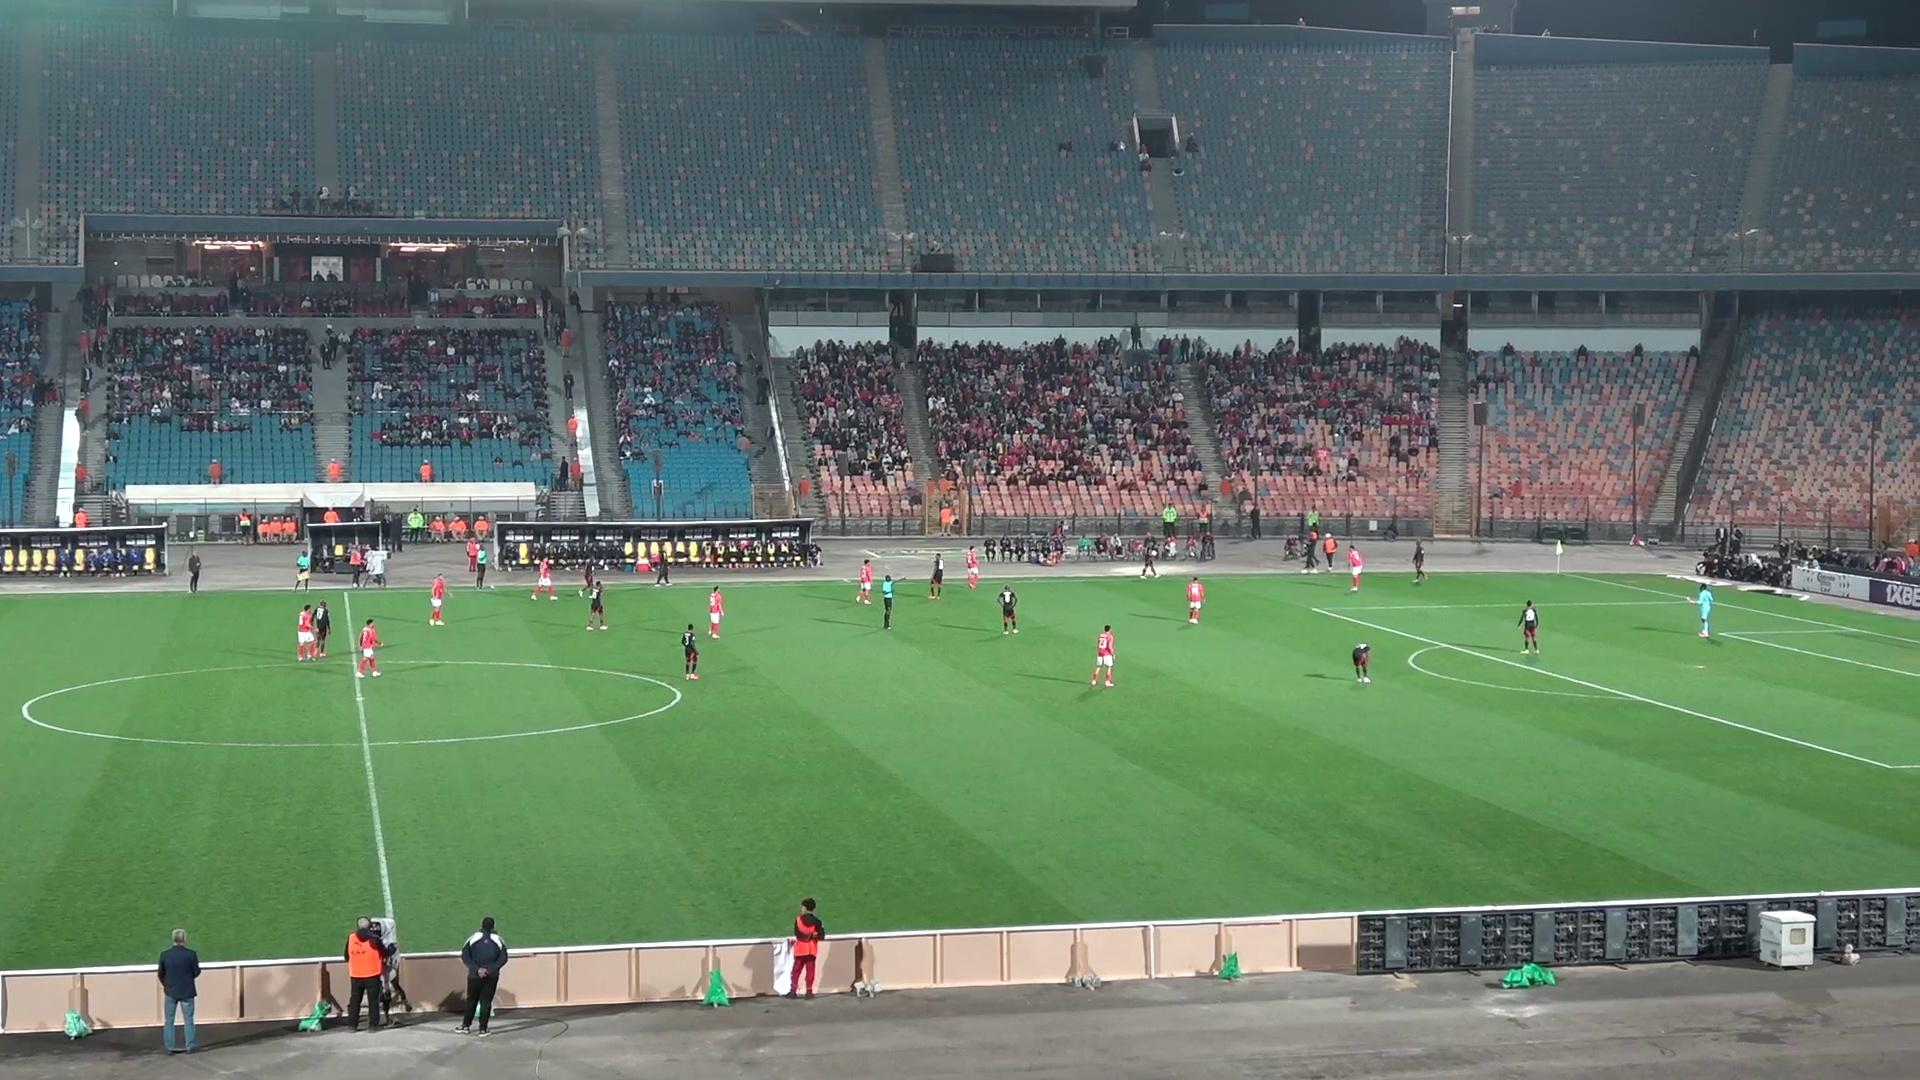GK2: (1692, 580, 1714, 640)
Refree: (291, 553, 328, 589), (873, 574, 897, 630), (469, 541, 488, 588)
Team1: (297, 601, 328, 661), (356, 618, 382, 676), (1091, 625, 1116, 686), (855, 556, 880, 603), (429, 574, 450, 626), (531, 558, 556, 600), (1185, 576, 1207, 624), (707, 585, 725, 638), (1346, 545, 1364, 592), (965, 546, 982, 589)
Team2: (303, 600, 331, 659), (996, 585, 1019, 634), (1518, 600, 1540, 651), (578, 553, 603, 597), (680, 625, 700, 680), (585, 582, 608, 630), (1349, 642, 1371, 682), (1411, 541, 1429, 584), (928, 553, 945, 597), (1141, 545, 1156, 579)
